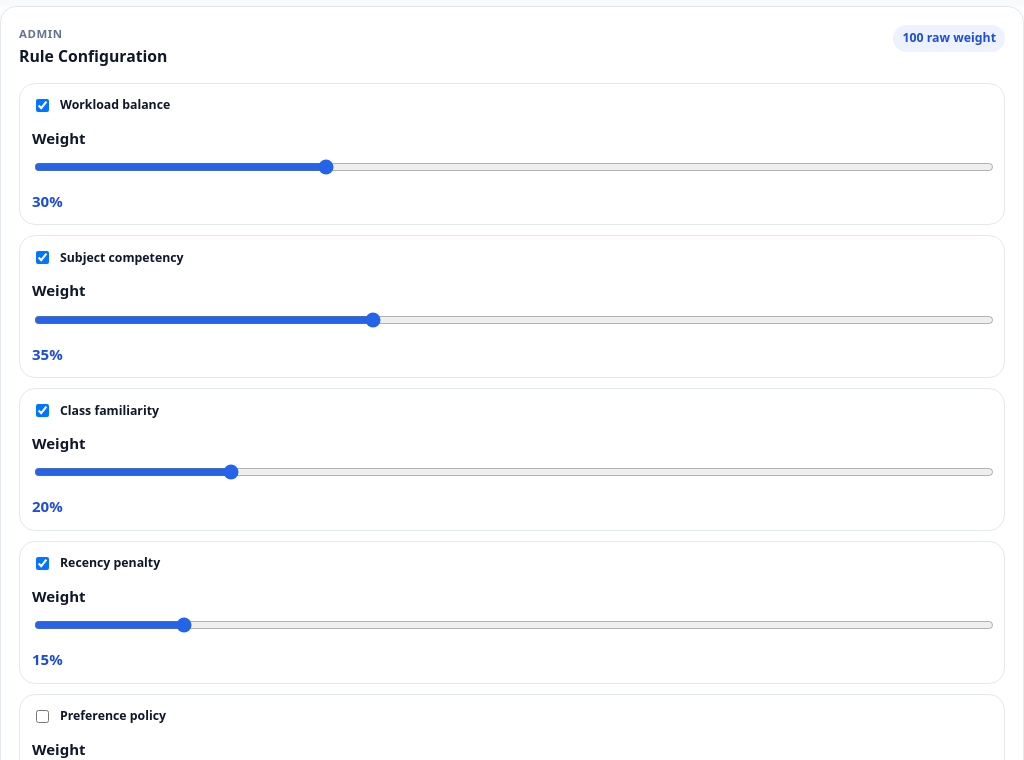
Test case: RuleConfigPanel › saves admin rule weights and hard constraints through the API seam
The image size is (1024, 760).
Click the checkbox named "Enable Subject competency".
click(42, 258)  # box [36, 252, 49, 264]
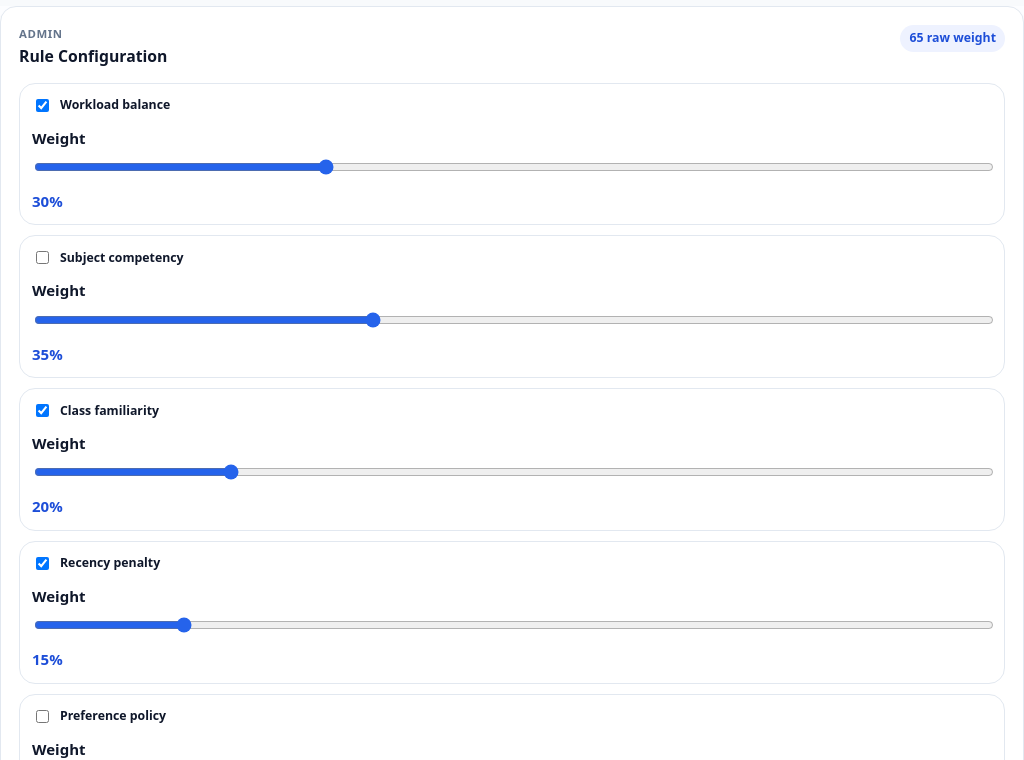
Set the slider named "Workload balance weight" to "80" at (797, 167), box [34, 158, 994, 176]
(page scrolled)
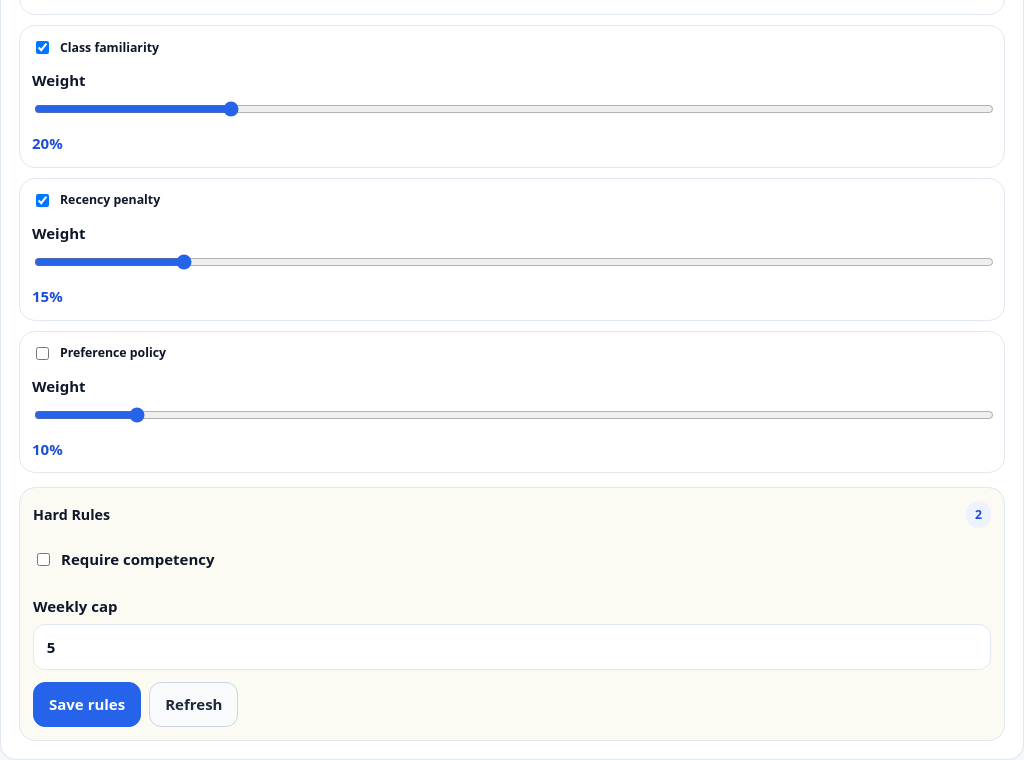
Click the checkbox labelled "Require competency".
click(44, 560)  # box [37, 553, 50, 566]
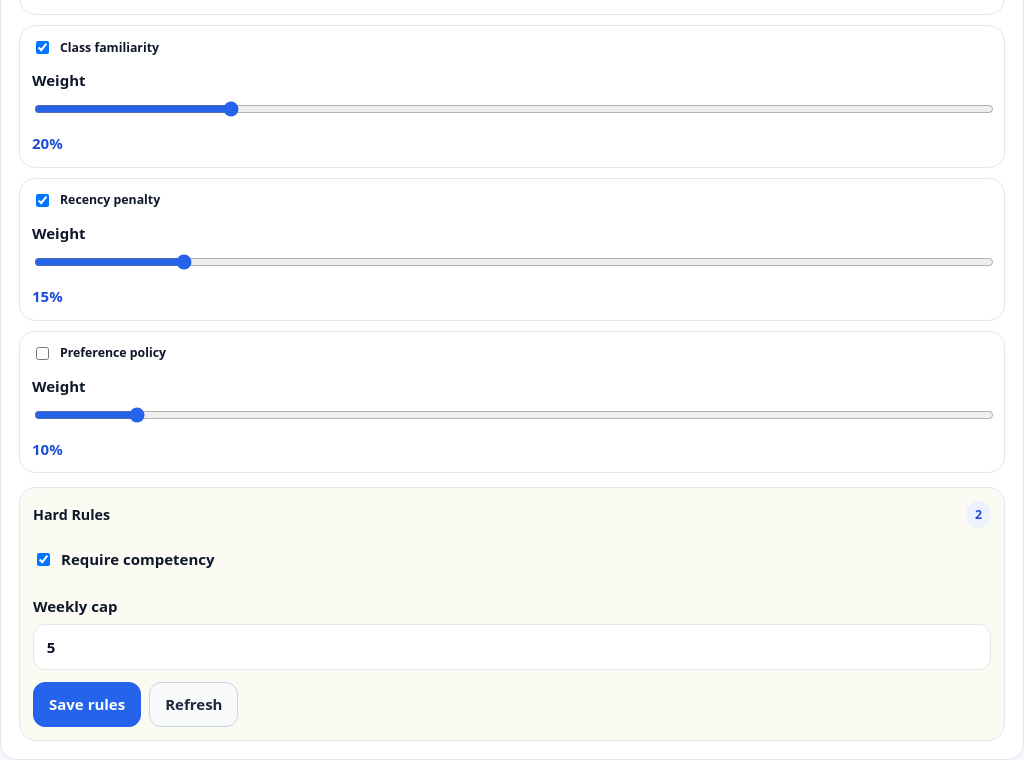
Replace the text in the number field named "Weekly substitute cap" with "7" at (512, 647), box [33, 624, 991, 670]
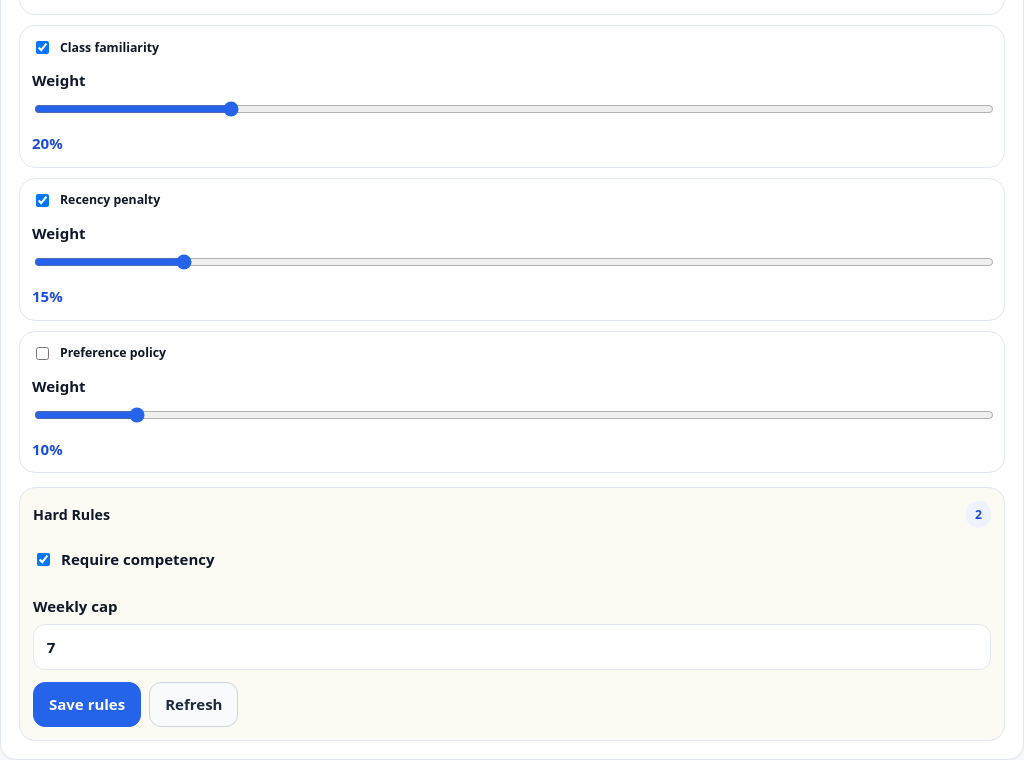
Click the button "Save rules".
click(87, 704)  # box [33, 682, 141, 727]
(page scrolled)
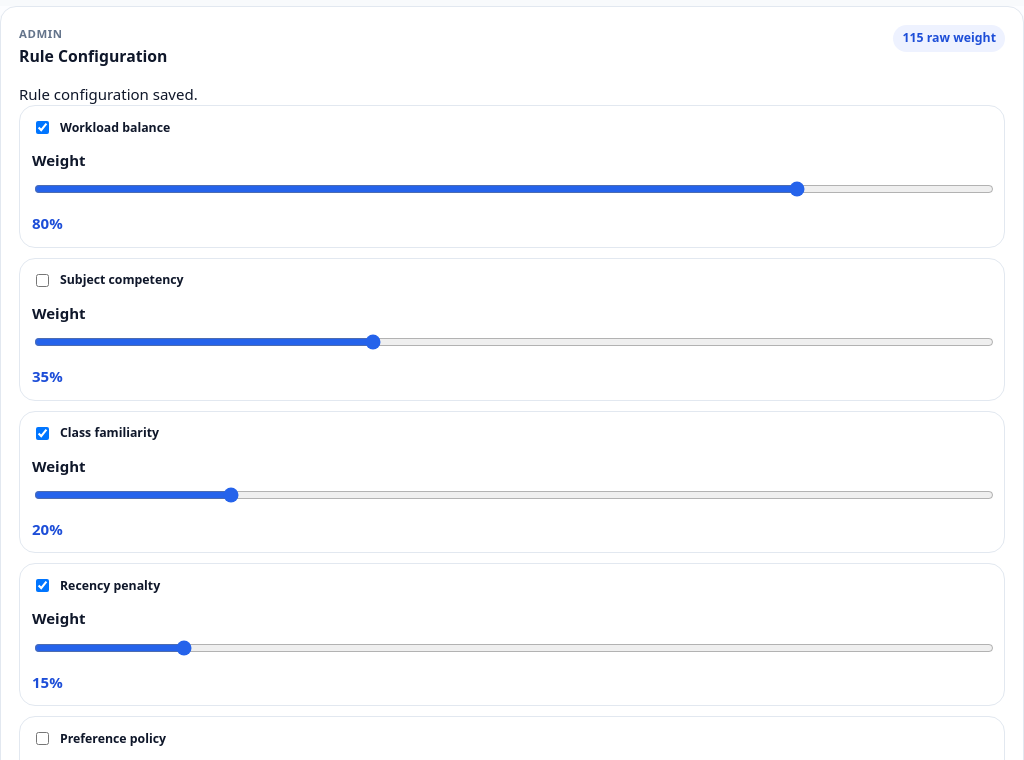
expect the text "Rule configuration saved." is shown: met, box [19, 84, 198, 104]
